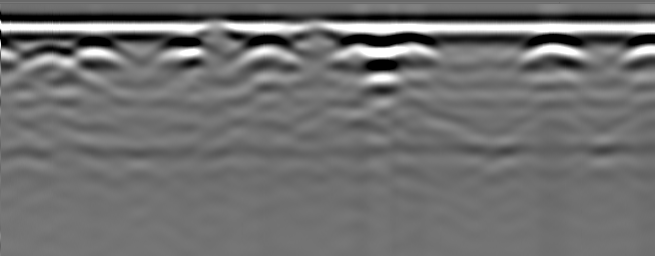pipe: (186, 24, 250, 46), (289, 25, 346, 46)
steel: (343, 33, 430, 70), (237, 38, 295, 75), (518, 37, 587, 67), (72, 40, 127, 71), (159, 39, 205, 72), (620, 36, 655, 70)
